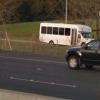Bus: (36, 17, 88, 49)
